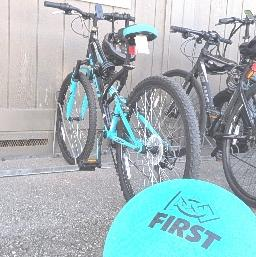algae: (100, 177, 256, 257)
